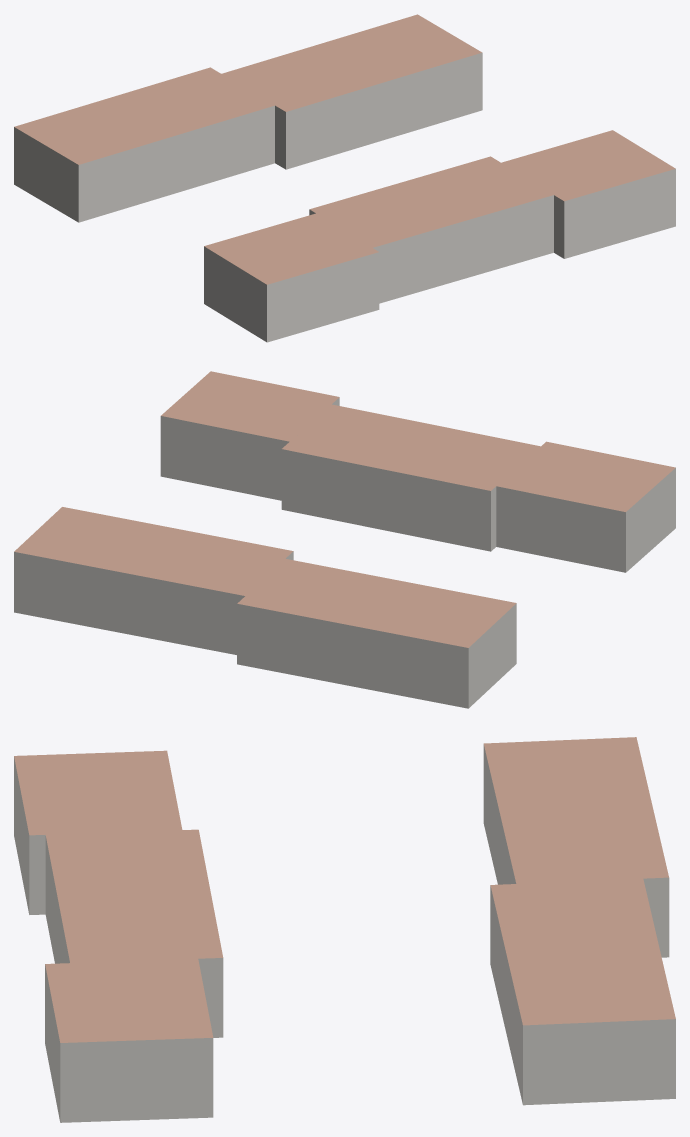
Rendered from gridID_1.dae.
3 renders of one model, top to bottom at view 1: azimuth 30°, elevation 25°; view 2: azimuth 150°, elevation 25°; view 3: azimuth 270°, elevation 25°, orthographic. The views are drawn at different scales.
Visible parts, largest first — view 1: model_gridID_1_w389865175, model_gridID_1_w389865176, model_gridID_1_w389865180, model_gridID_1_w389865182, model_gridID_1_w389865180_001; view 2: model_gridID_1_w389865175, model_gridID_1_w389865176, model_gridID_1_w389865180, model_gridID_1_w389865182, model_gridID_1_w389865180_001; view 3: model_gridID_1_w389865176, model_gridID_1_w389865180_001, model_gridID_1_w389865175, model_gridID_1_w389865180, model_gridID_1_w389865182.
Boxes of the visible parts, left/top/right/bottom form: model_gridID_1_w389865175: left=14, top=67, right=274, bottom=222; model_gridID_1_w389865176: left=221, top=14, right=482, bottom=169; model_gridID_1_w389865180: left=309, top=156, right=553, bottom=303; model_gridID_1_w389865182: left=204, top=213, right=379, bottom=342; model_gridID_1_w389865180_001: left=501, top=130, right=675, bottom=258; model_gridID_1_w389865175: left=237, top=558, right=516, bottom=708; model_gridID_1_w389865176: left=14, top=507, right=293, bottom=654; model_gridID_1_w389865180: left=281, top=404, right=540, bottom=551; model_gridID_1_w389865182: left=496, top=441, right=675, bottom=572; model_gridID_1_w389865180_001: left=160, top=371, right=339, bottom=500; model_gridID_1_w389865176: left=490, top=878, right=675, bottom=1105; model_gridID_1_w389865180_001: left=45, top=958, right=213, bottom=1122; model_gridID_1_w389865175: left=483, top=737, right=669, bottom=957; model_gridID_1_w389865180: left=45, top=829, right=223, bottom=1037; model_gridID_1_w389865182: left=14, top=750, right=182, bottom=914.
Size of the model in its own units: 61.67 by 56.39 by 7.5.
